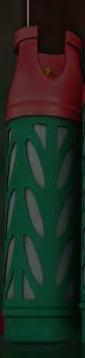cylinder: (1, 0, 85, 358)
